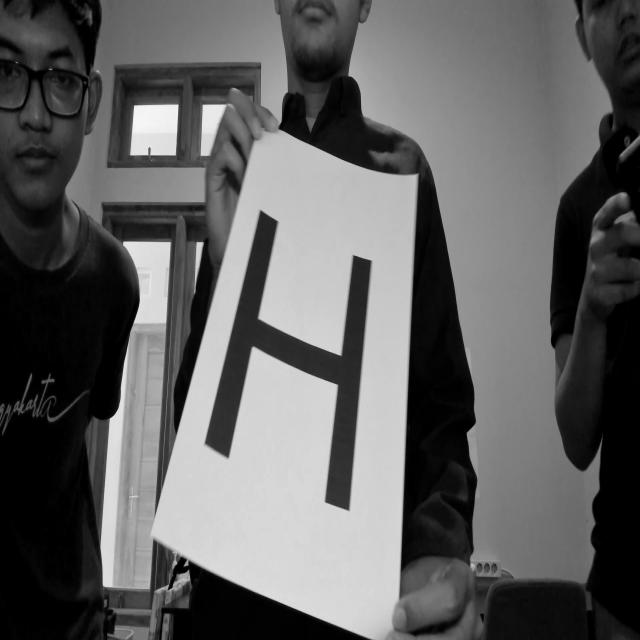h: (189, 200, 376, 521)
